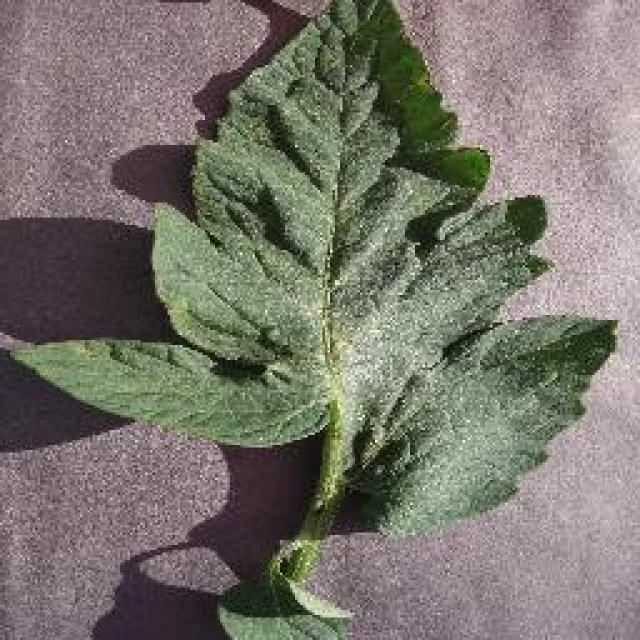Tomato Septoria spot leaf: (21, 0, 621, 545)
